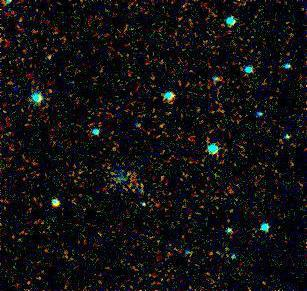star: (38, 43, 68, 73)
